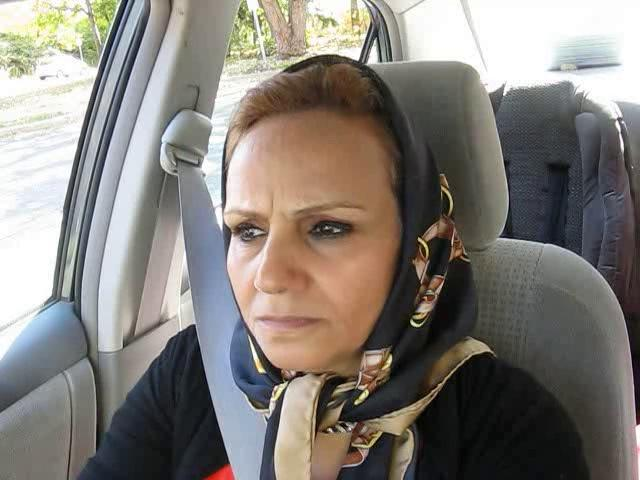no_yawn: (243, 300, 334, 342)
open_eyeL: (224, 214, 274, 255)
open_eyeR: (293, 207, 370, 253)
